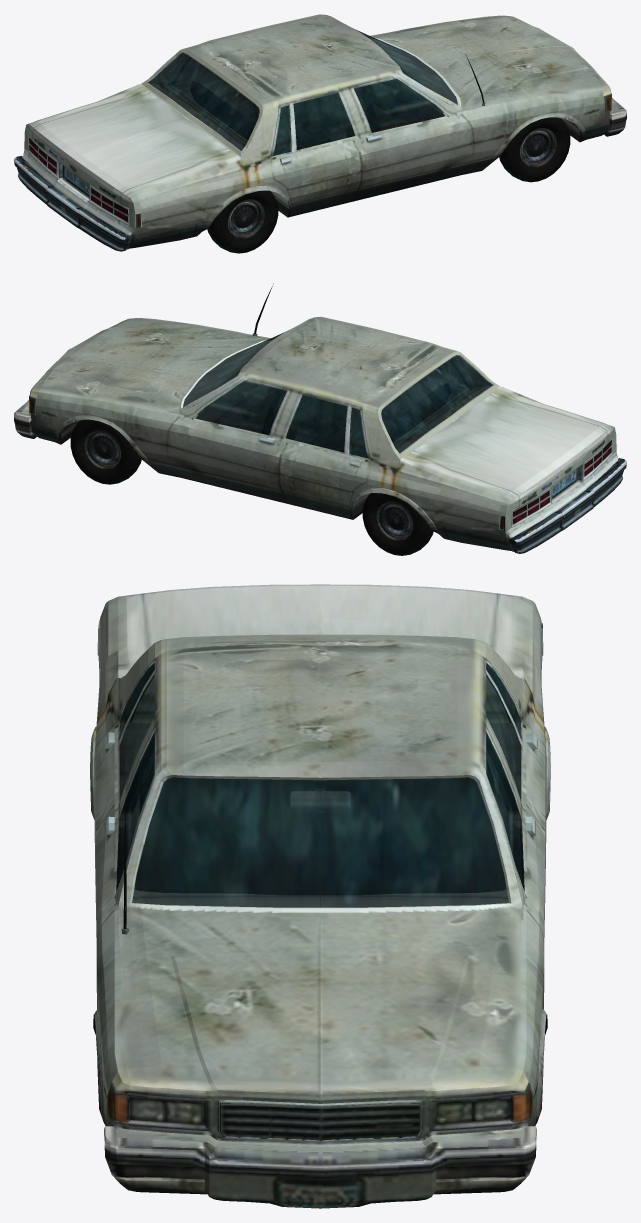
The model's file is hl2proto_metalcar.glb.
3 views of the same model, one above another, from view 1: azimuth 30°, elevation 25°; view 2: azimuth 150°, elevation 25°; view 3: azimuth 270°, elevation 25° (orthographic). The views are drawn at different scales.
Parts seen in each view (by area): view 1: Plane_0, Plane.001_1; view 2: Plane_0, Plane.001_1; view 3: Plane_0.
Boxes of the visible parts, x1,y1,x2,y2 form: Plane_0: [14, 14, 626, 251]; Plane.001_1: [207, 117, 570, 253]; Plane_0: [14, 283, 626, 553]; Plane.001_1: [70, 419, 433, 555]; Plane_0: [90, 584, 550, 1208].
Size of the model in its own units: 13.31 by 3.57 by 5.07.
3 materials, 3 textured.
